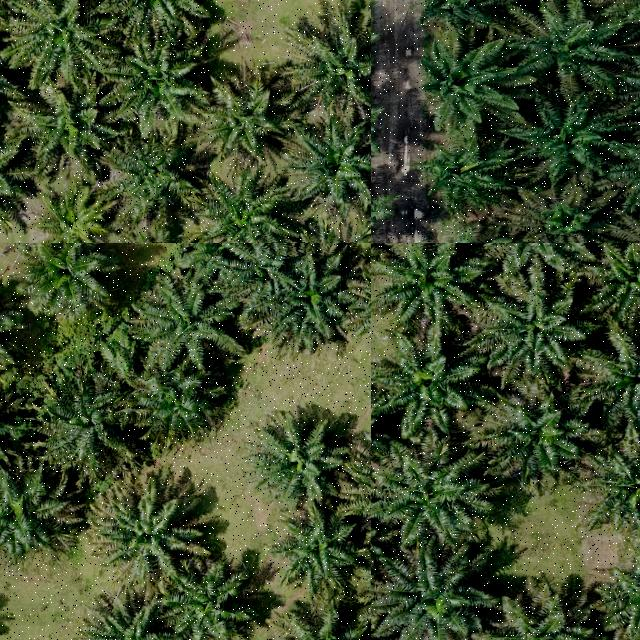Ganoderma: (41, 201, 97, 243)
